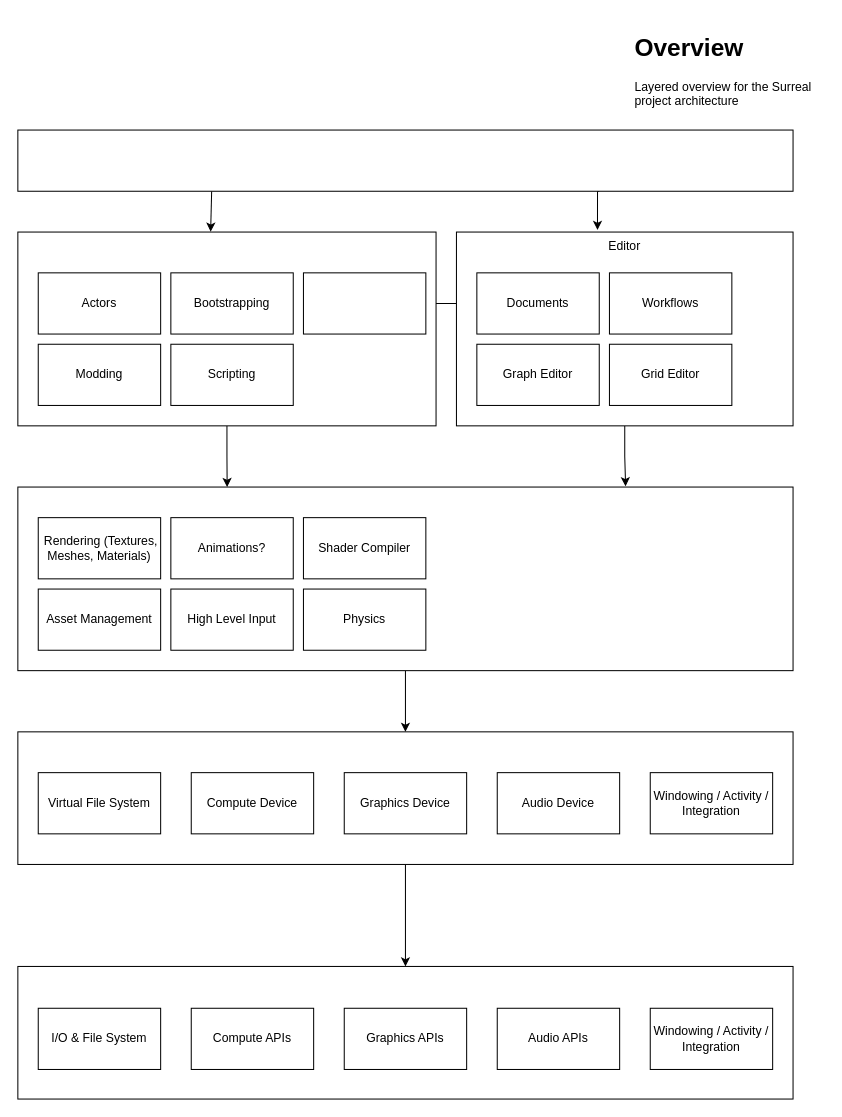
Some shapes in this 842 by 1117 pixel diagram are drawn without their labels. The box of each missing label's shape, as (x1, y1, x2, y2) in pixels:
Application (Game): (17, 129, 793, 191)
Core: (17, 486, 793, 671)
Framework: (17, 231, 436, 426)
Platform (OS): (17, 965, 793, 1099)
Platform Abstraction Layer: (17, 731, 793, 864)
Scenes: (302, 272, 426, 334)
